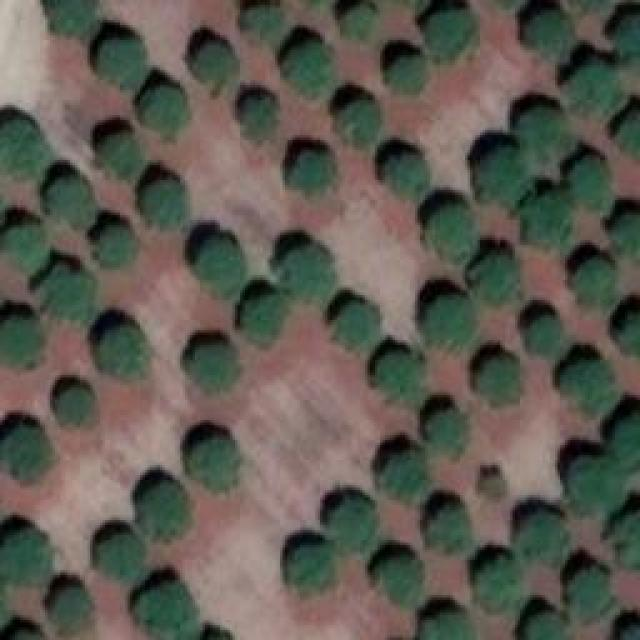Tree: (138, 582, 201, 640), (567, 457, 625, 515), (195, 238, 245, 301), (0, 120, 52, 180), (563, 360, 618, 415), (40, 265, 93, 320), (567, 65, 625, 115), (143, 480, 188, 543), (425, 205, 478, 258), (520, 108, 573, 161), (100, 38, 150, 93), (0, 428, 50, 483), (0, 530, 50, 583), (283, 245, 333, 298), (285, 43, 335, 96), (47, 175, 95, 228), (427, 298, 475, 351), (483, 148, 528, 203), (97, 130, 145, 180), (97, 328, 145, 378), (187, 438, 235, 488), (475, 560, 525, 608), (525, 195, 570, 248), (520, 510, 565, 563), (142, 182, 190, 230), (333, 498, 376, 551), (3, 223, 48, 273), (95, 535, 145, 580), (378, 353, 423, 403), (383, 455, 428, 503), (332, 305, 380, 350), (570, 158, 610, 211), (50, 590, 93, 638), (478, 357, 521, 405), (385, 158, 433, 201), (193, 43, 238, 88), (475, 255, 520, 300), (0, 318, 40, 368), (568, 568, 608, 618), (193, 345, 236, 390), (425, 13, 470, 56), (43, 0, 98, 35), (340, 100, 380, 148), (288, 545, 331, 588), (575, 257, 613, 305), (243, 298, 283, 343), (382, 560, 420, 605), (610, 515, 640, 570), (143, 87, 186, 125), (432, 510, 470, 553), (240, 0, 283, 38), (293, 153, 333, 193), (430, 407, 463, 455), (528, 15, 573, 50), (528, 315, 563, 355), (423, 612, 473, 640), (100, 227, 135, 265), (385, 55, 425, 88), (615, 215, 640, 265), (60, 388, 95, 423), (245, 98, 278, 133), (617, 417, 640, 464), (527, 612, 565, 640), (343, 0, 373, 35), (617, 112, 640, 157), (622, 17, 640, 65), (620, 315, 640, 355), (483, 475, 506, 495)
